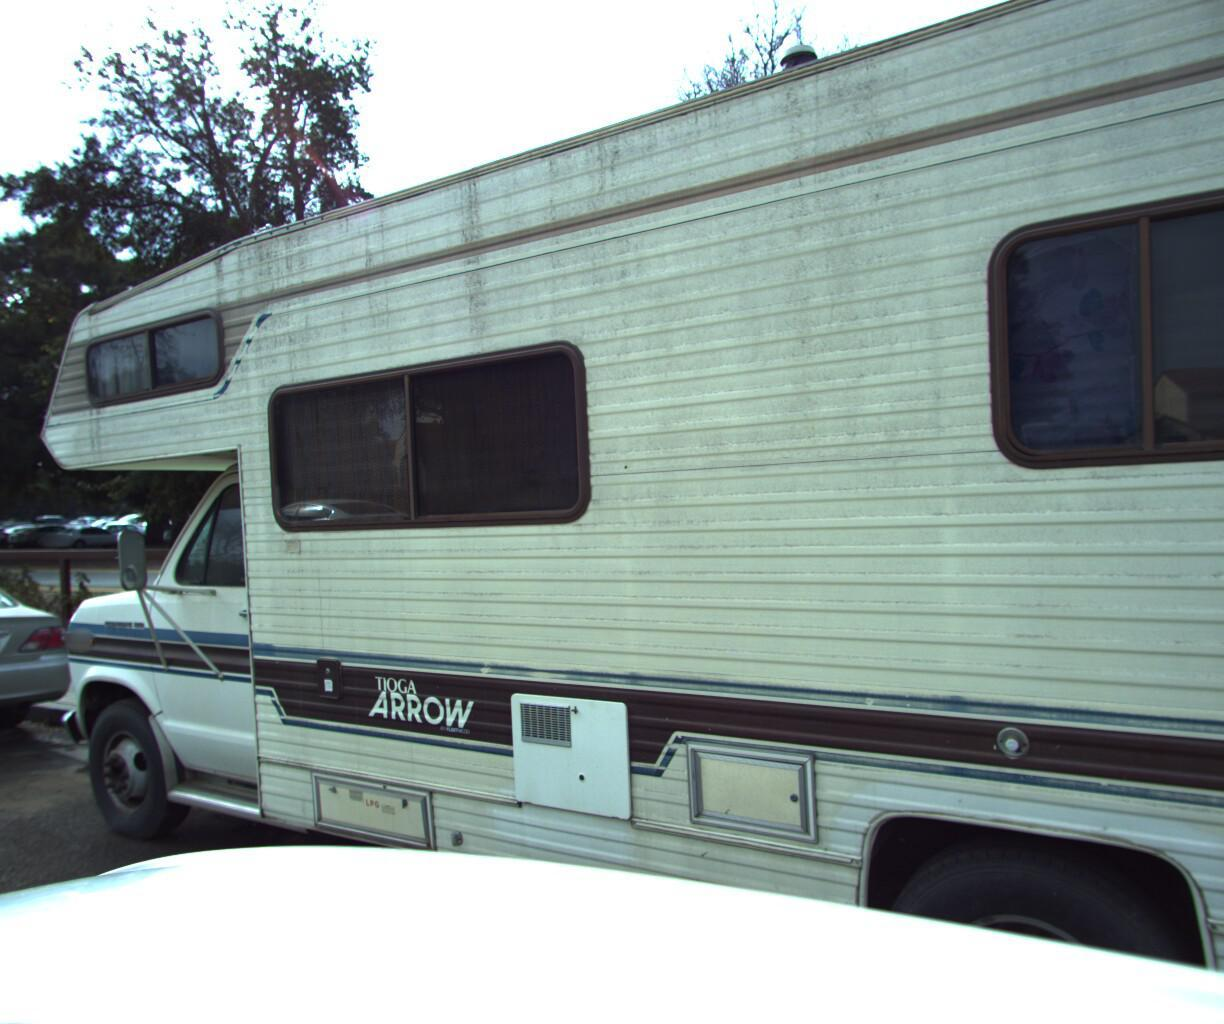car: (0, 541, 95, 809)
other_vehicle: (0, 0, 1224, 1024), (0, 504, 64, 600)
